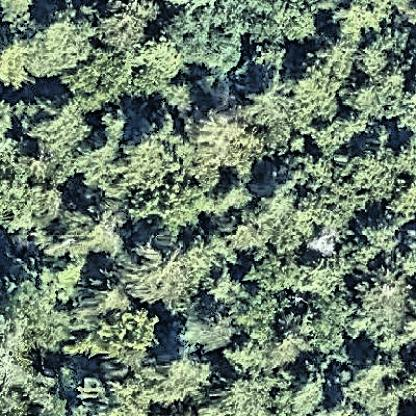tree-top: (251, 259, 346, 350), (292, 147, 383, 225), (1, 266, 80, 351), (1, 143, 66, 236), (18, 15, 99, 83), (116, 240, 193, 309), (168, 6, 249, 68), (347, 46, 416, 117), (230, 192, 303, 258), (299, 32, 350, 124), (23, 94, 95, 157), (60, 203, 134, 263), (216, 4, 322, 45), (120, 126, 179, 198), (142, 352, 219, 407), (347, 262, 411, 328), (68, 46, 134, 110), (1, 346, 60, 416), (241, 69, 304, 133), (184, 103, 245, 163), (107, 297, 165, 360), (133, 31, 185, 97), (156, 185, 216, 241), (218, 366, 284, 416), (342, 355, 399, 409), (101, 1, 163, 46), (186, 300, 235, 353), (279, 364, 328, 413), (334, 1, 392, 37), (304, 222, 340, 257), (222, 176, 251, 213), (1, 2, 39, 26)
